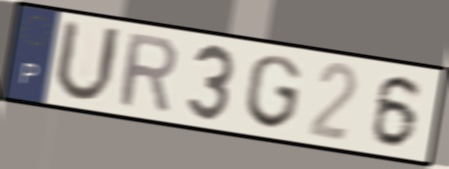2: (305, 61, 363, 145)
3: (184, 42, 238, 123)
6: (370, 73, 425, 150)
G: (242, 52, 304, 132)
R: (117, 30, 180, 116)
U: (50, 16, 124, 106)
